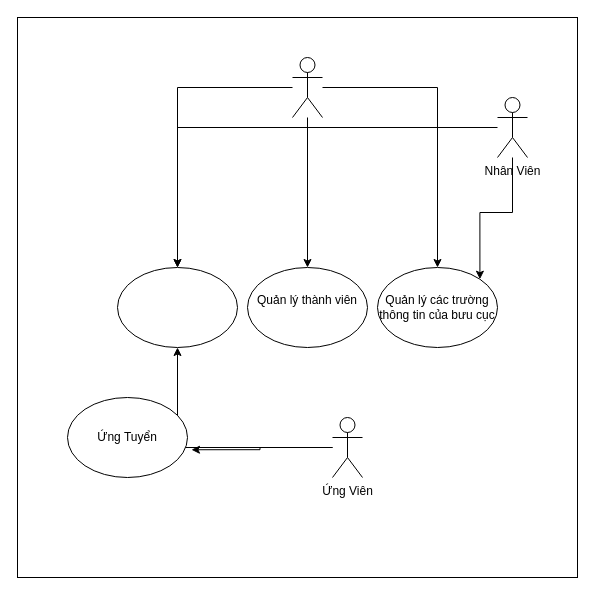
Some shapes in this 595 by 595 pixel diagram are drawn without their labels. Each missing label, with the box of its shape:
Admin: (292, 56, 322, 118)
Đăng Nhập/ Đăng Ký: (116, 266, 238, 348)
